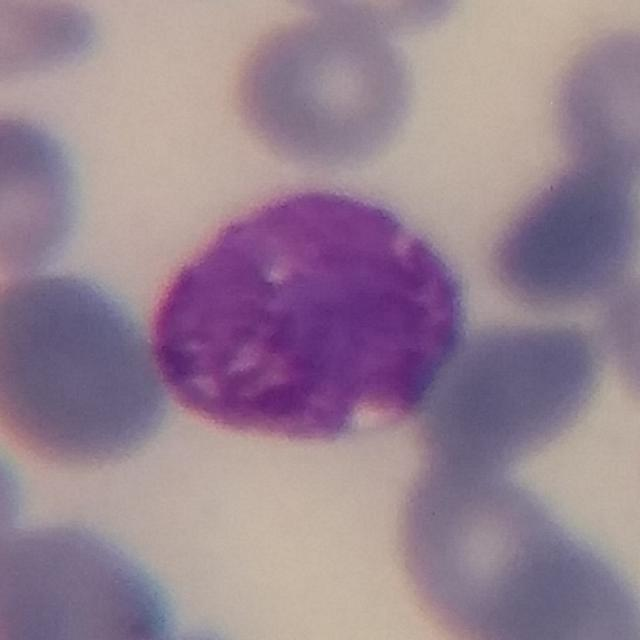Basophil: (128, 168, 484, 463)
RBC: (386, 462, 621, 640), (0, 258, 179, 475), (471, 116, 640, 325), (225, 2, 422, 176), (421, 309, 597, 473), (0, 513, 188, 640), (467, 518, 639, 640), (543, 21, 640, 190), (0, 104, 89, 274), (0, 0, 107, 93), (592, 257, 640, 413), (280, 0, 477, 38), (0, 423, 32, 597)
